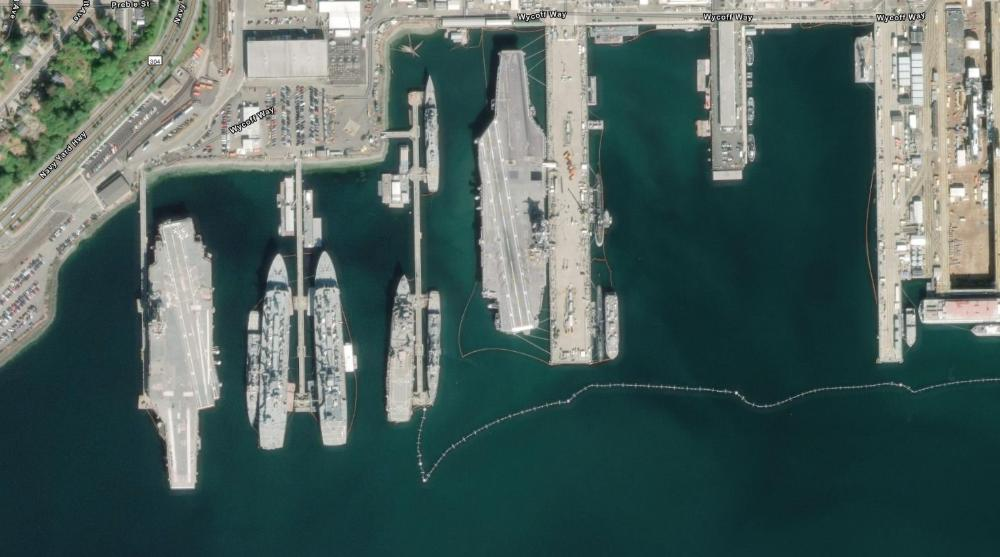carrier: (129, 205, 233, 505), (470, 35, 557, 340)
cruiser: (420, 72, 446, 201), (243, 309, 262, 428), (425, 284, 442, 408)
submarine: (594, 171, 609, 249), (594, 281, 606, 364)
tender: (310, 249, 359, 452), (258, 252, 293, 451)
